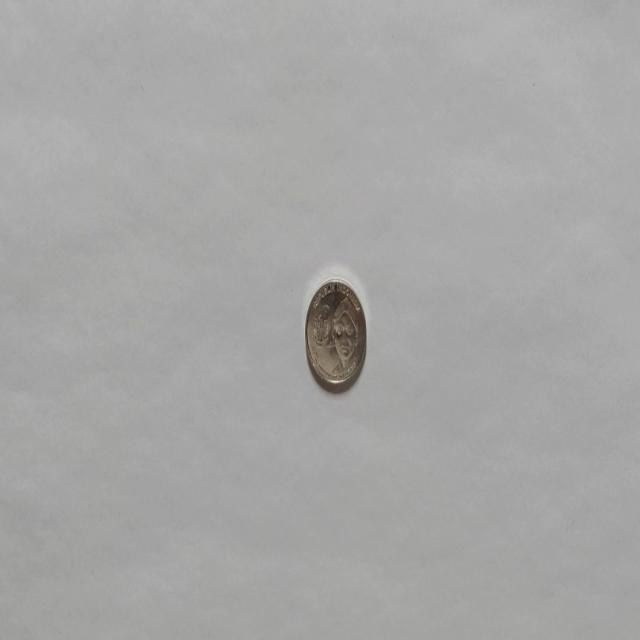dua ratus rupiah: (304, 276, 367, 392)
